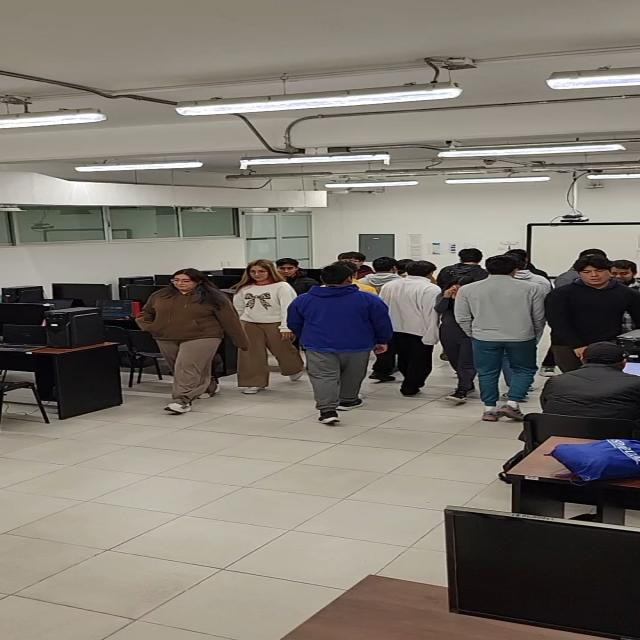Persona: (285, 264, 394, 424), (134, 268, 252, 414), (452, 255, 544, 422), (543, 253, 640, 372), (232, 258, 306, 394), (380, 260, 445, 398), (437, 247, 495, 290)
